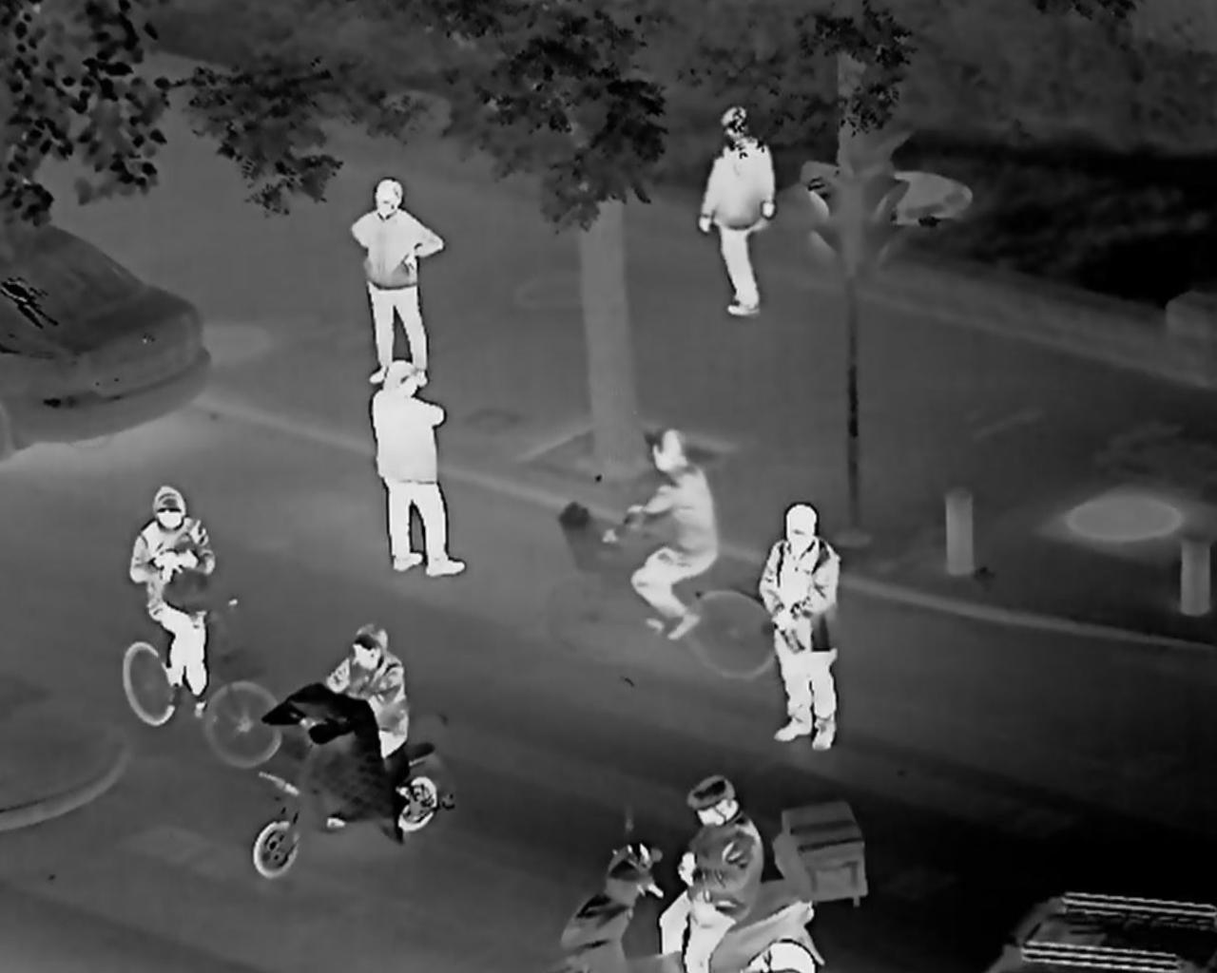person: (110, 476, 228, 702), (367, 369, 477, 607), (767, 495, 860, 759), (625, 432, 719, 657), (338, 176, 443, 368), (677, 774, 772, 973), (320, 615, 427, 764), (702, 102, 777, 300)
